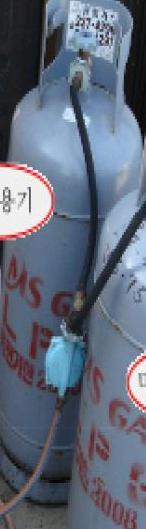cylinder: (1, 1, 146, 529)
